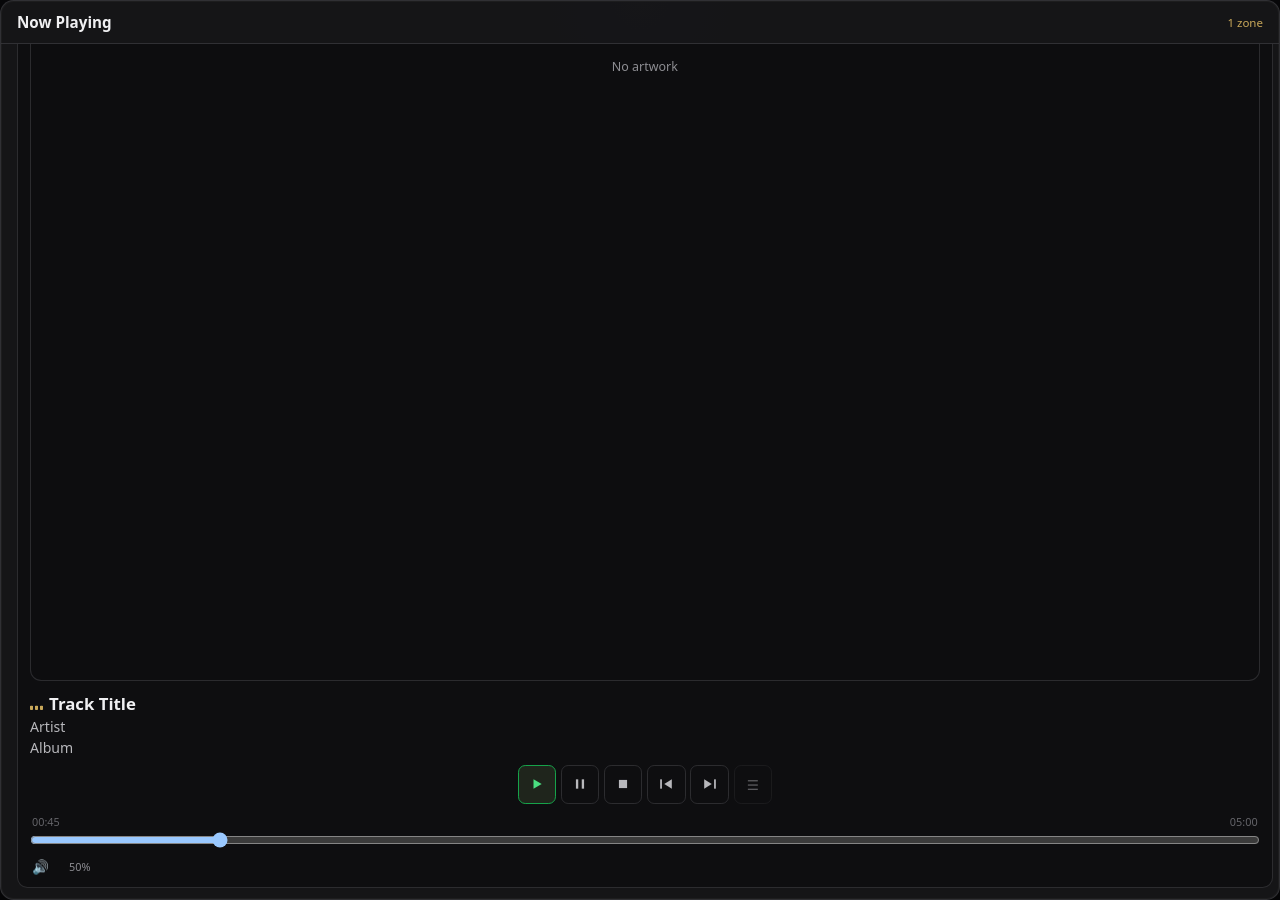
Scenario: ZoneStatusPanel — zone card lifecycle › clicking volume toggle again hides the slider
(page scrolled)
Click the button named "Show volume slider" at (73, 866), box [55,859,91,874]
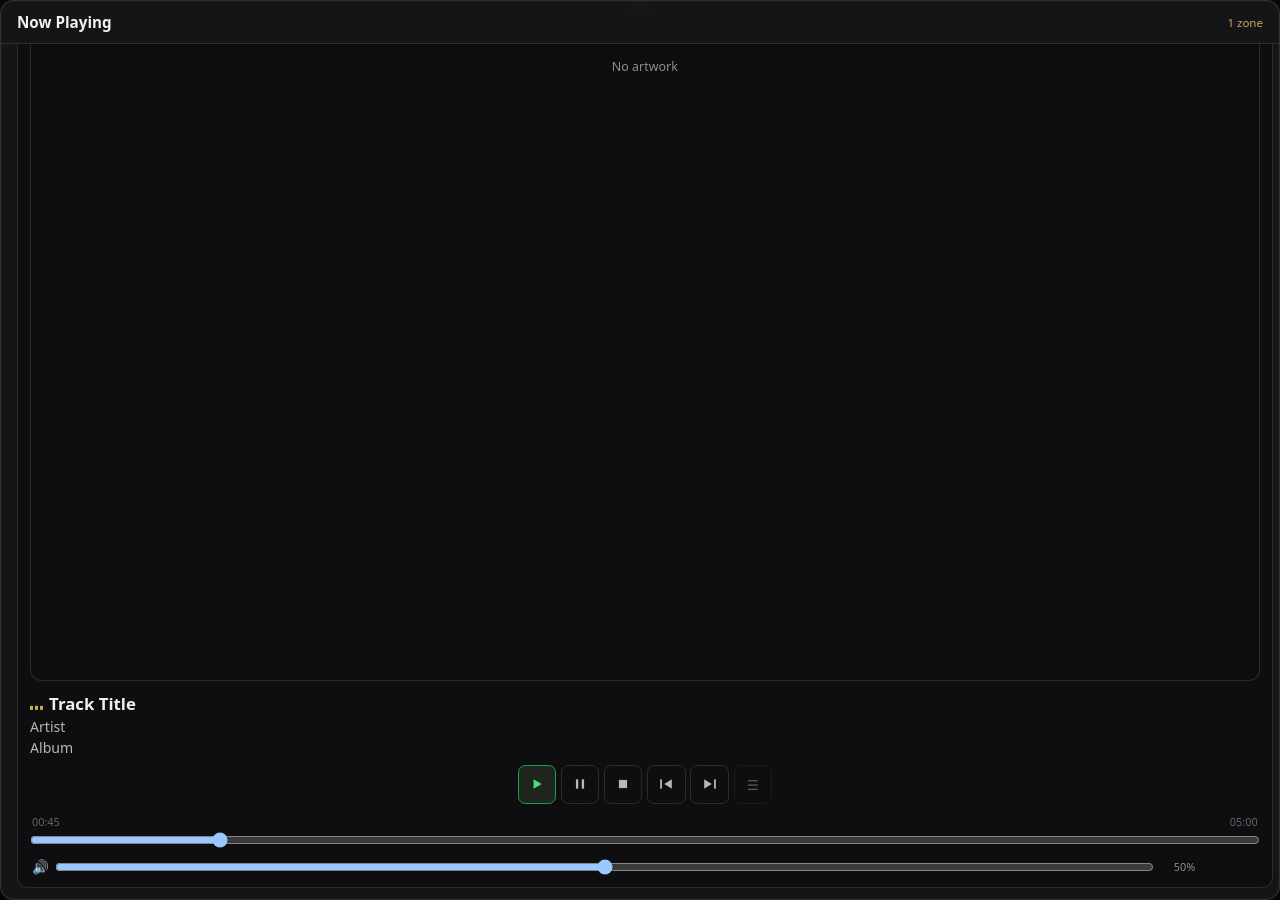
Result: the slider named "Volume" is shown at [55,858,1154,874]
Click the button named "Hide volume slider" at (1178, 866), box [1160,859,1195,874]
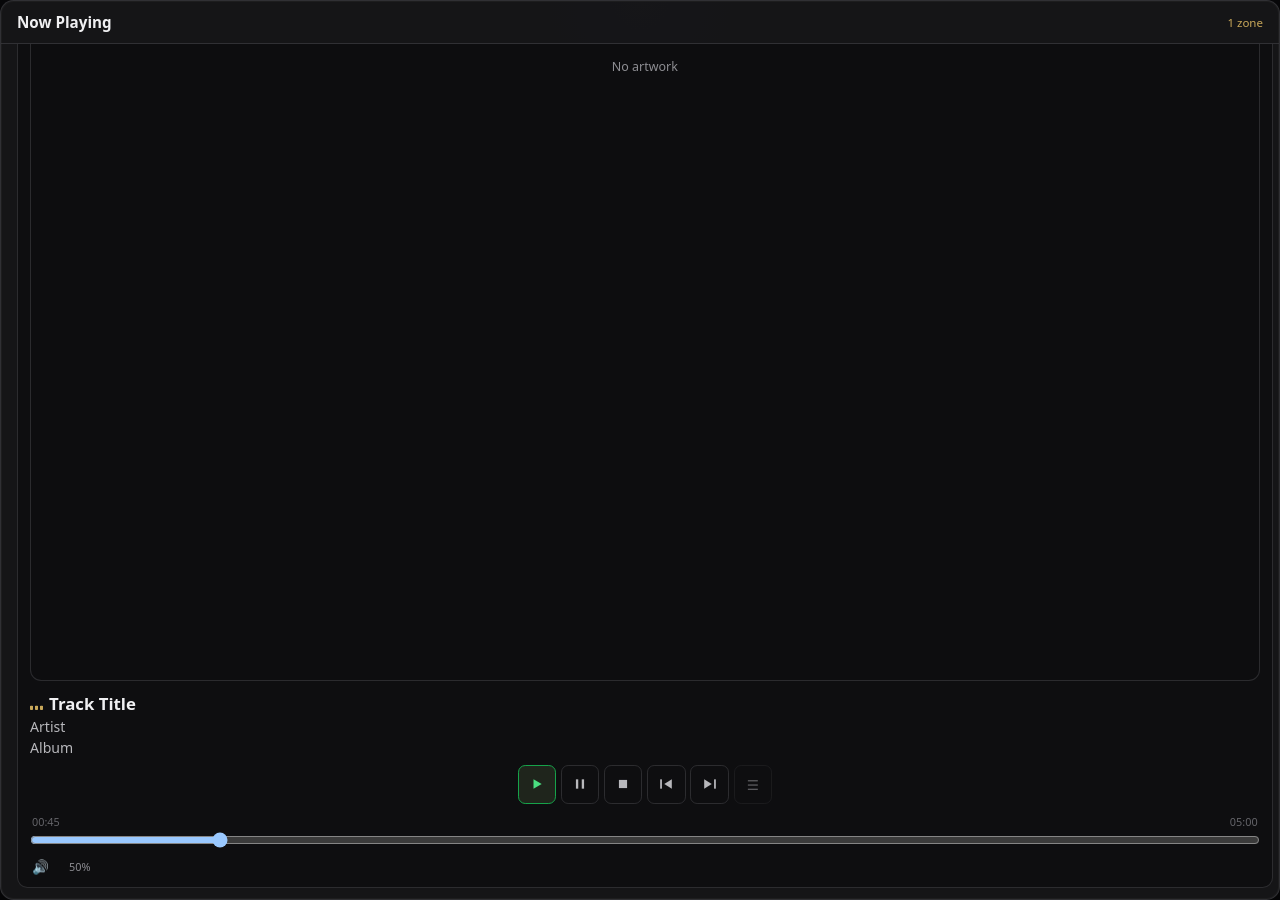
Result: the button named "Show volume slider" is shown at [55,859,91,874]
